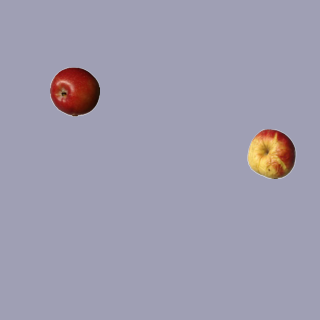Apple Braeburn: (49, 66, 99, 116)
Apple Red Yellow 1: (246, 128, 296, 178)
